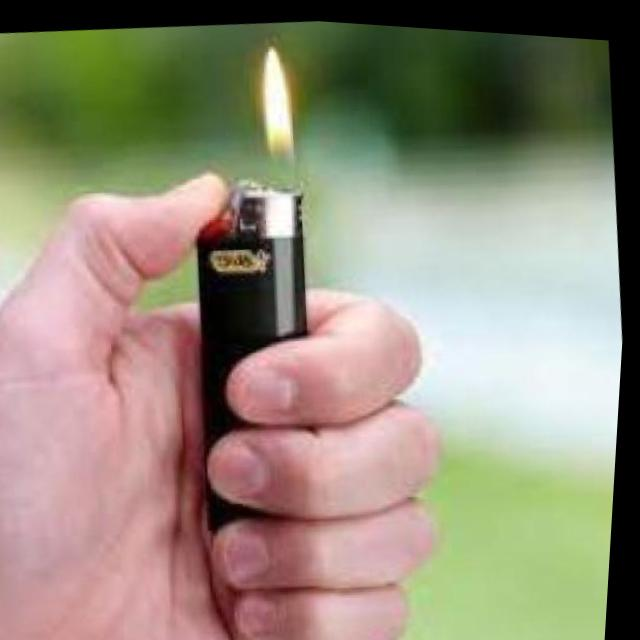Fire: (253, 40, 301, 173)
